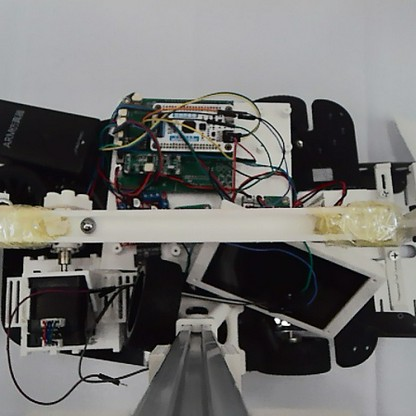ironball: (78, 215, 96, 234)
